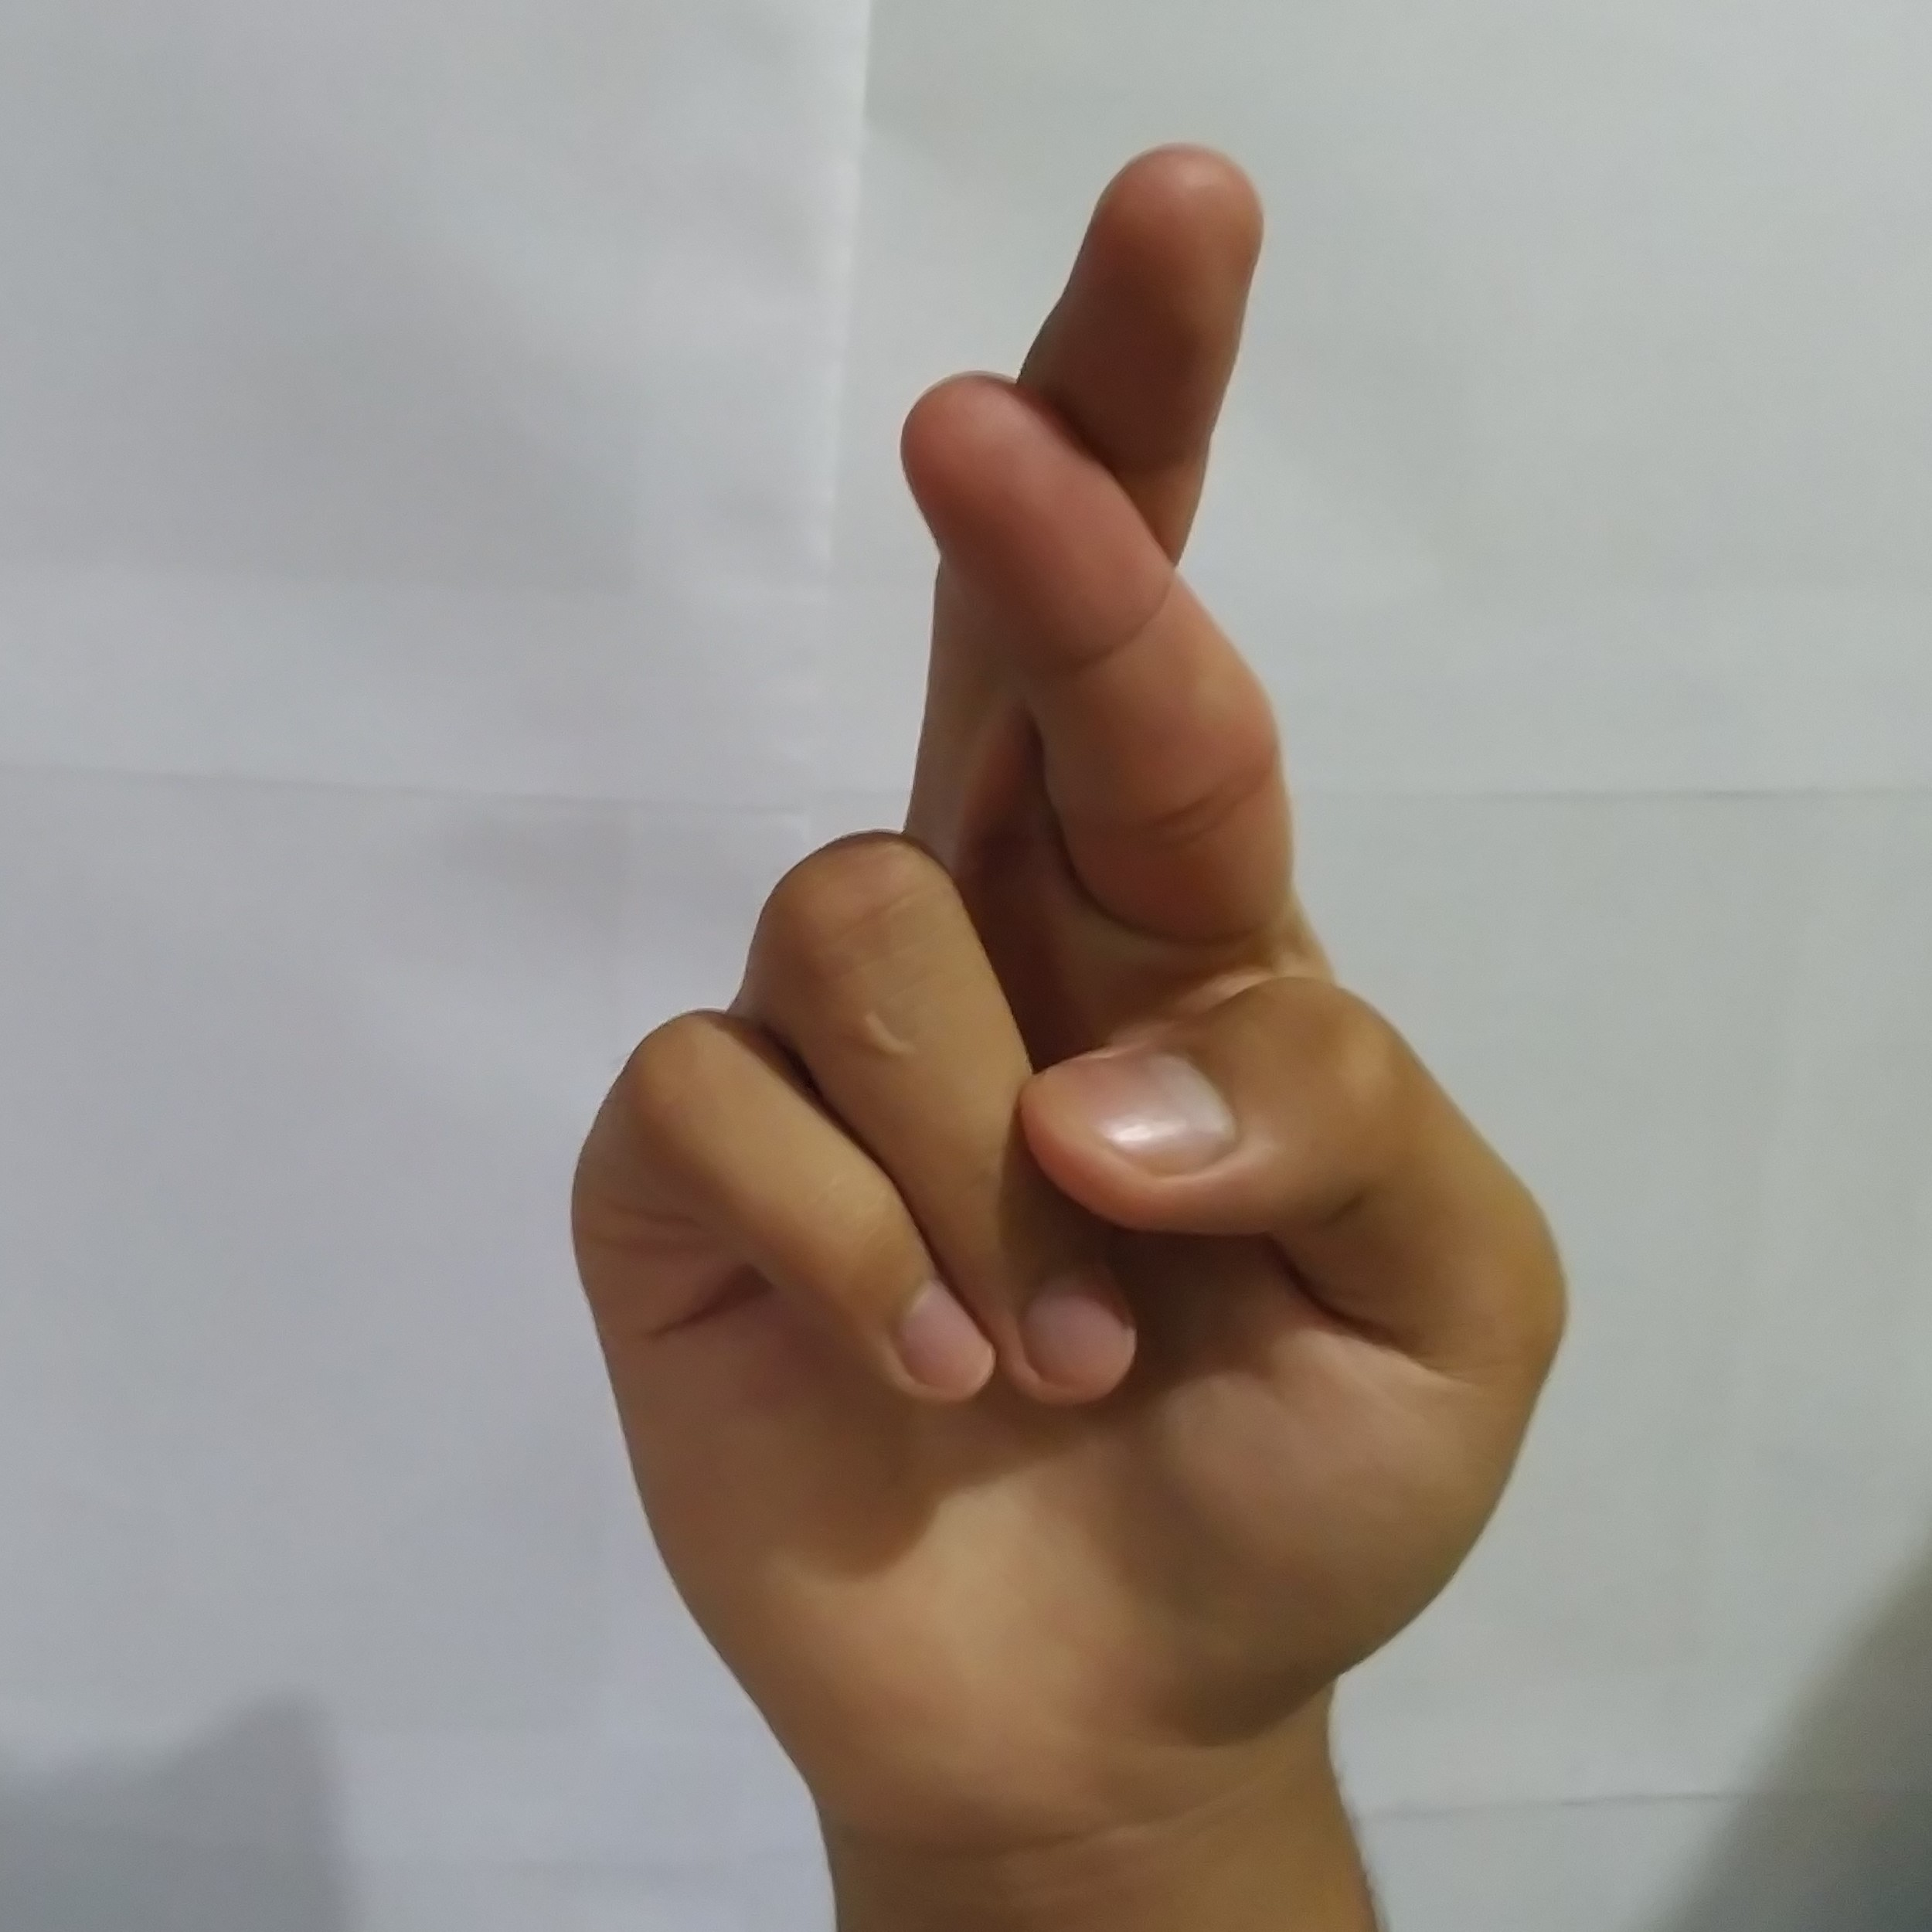R: (538, 113, 1594, 1821)
